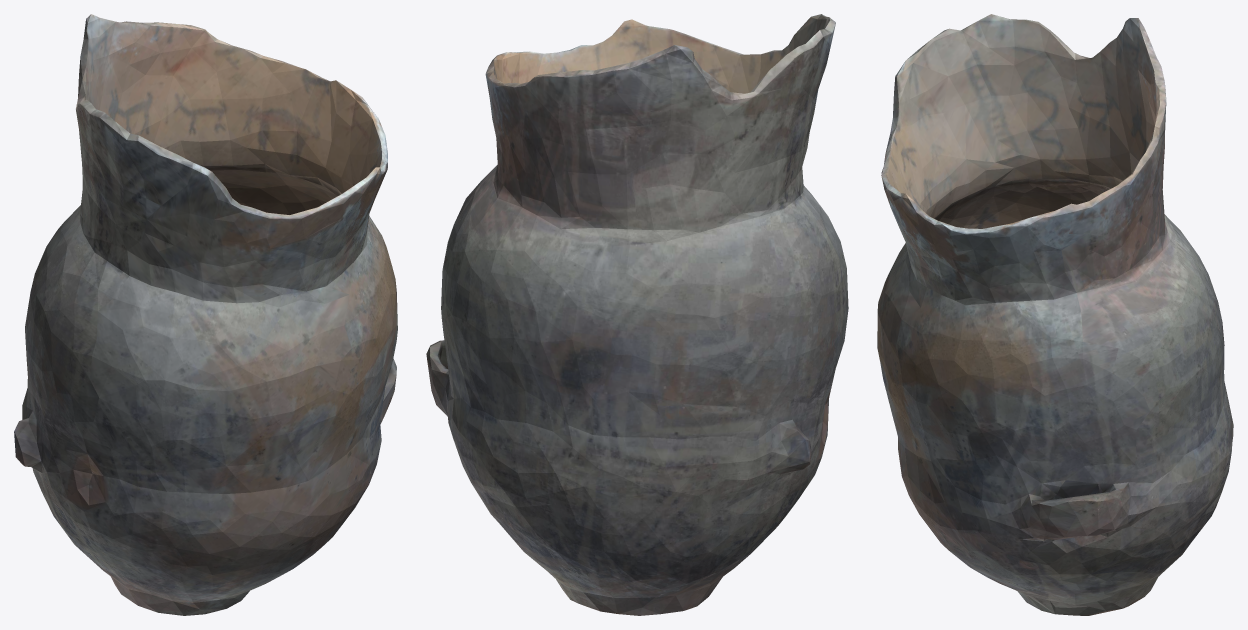
The picture shows the model from 3 angles, left to right: view 1: azimuth 30°, elevation 25°; view 2: azimuth 150°, elevation 25°; view 3: azimuth 270°, elevation 25°; orthographic projection. The views are drawn at different scales.
Visible parts, largest first — view 1: MA0576; view 2: MA0576; view 3: MA0576.
Part boxes in pixels (<box>): MA0576: <box>14,14,397,615</box>; MA0576: <box>426,14,848,615</box>; MA0576: <box>877,14,1233,615</box>.
Bounding box in the file's own units: 6 × 8.89 × 5.27.
1 material, 1 textured.
